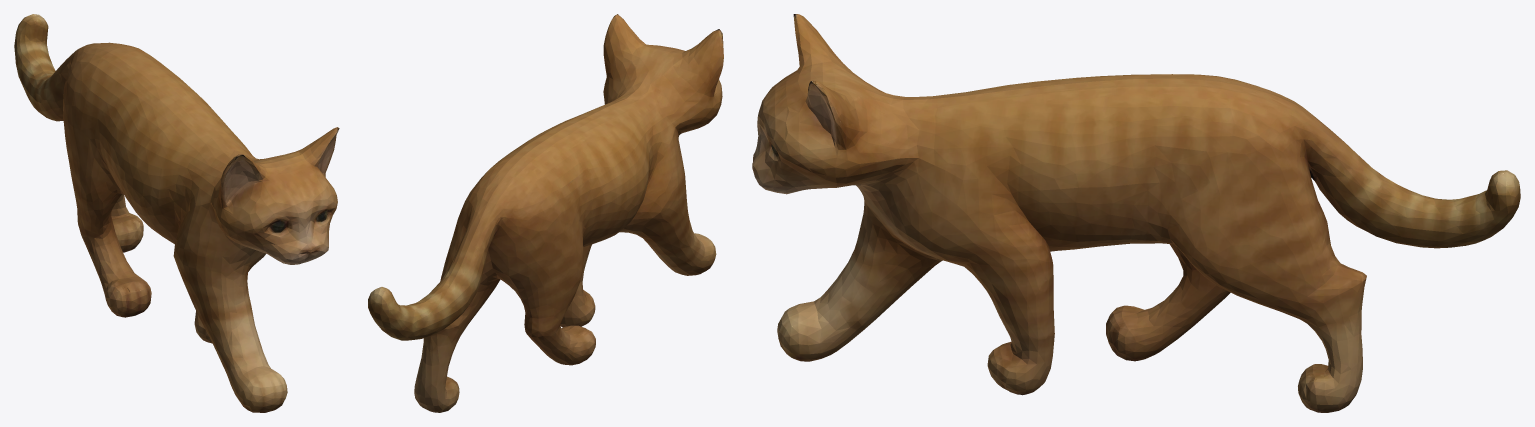
The model's file is actor_cat_orange.glb.
The picture shows the model from 3 angles, left to right: view 1: azimuth 30°, elevation 25°; view 2: azimuth 150°, elevation 25°; view 3: azimuth 270°, elevation 25°; orthographic projection. The views are drawn at different scales.
Visible parts, largest first — view 1: geometry_0; view 2: geometry_0; view 3: geometry_0.
Boxes of the visible parts, x1,y1,x2,y2 form: geometry_0: (14, 14, 339, 412); geometry_0: (368, 14, 723, 412); geometry_0: (752, 14, 1520, 412).
Bounding box in the file's own units: 0.2317 × 0.4875 × 0.9983.
1 material, 1 textured.
